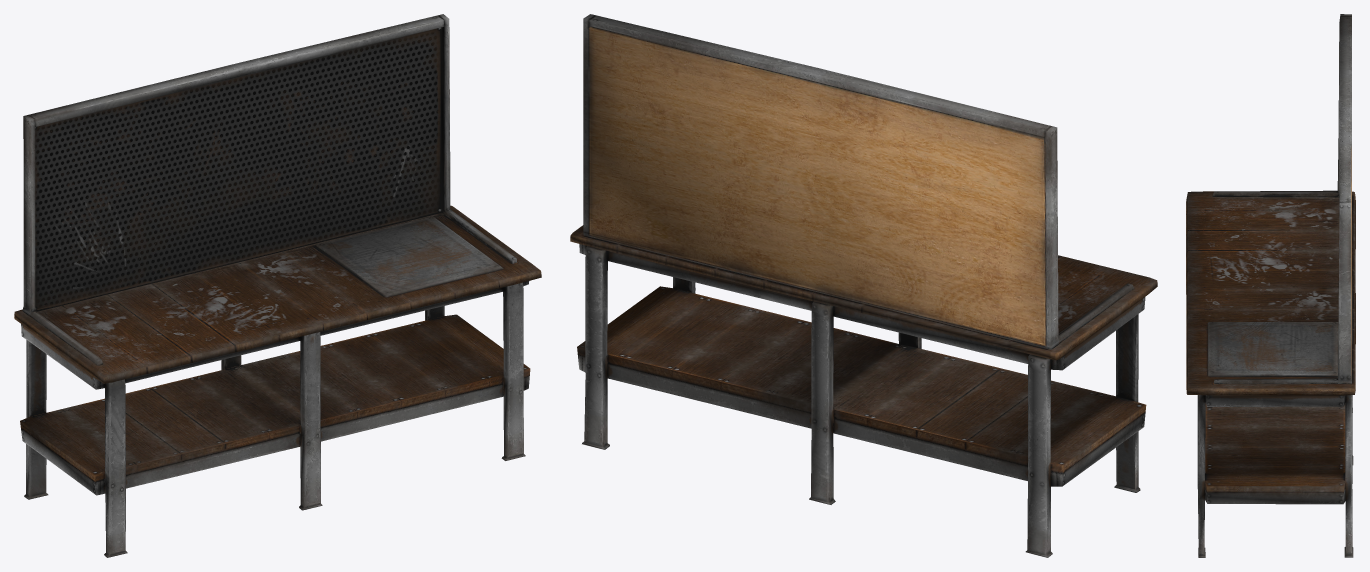
3 renders of one model, left to right at view 1: azimuth 30°, elevation 25°; view 2: azimuth 150°, elevation 25°; view 3: azimuth 270°, elevation 25°, orthographic. The views are drawn at different scales.
Parts seen in each view (by area): view 1: RetopoGroup1; view 2: RetopoGroup1; view 3: RetopoGroup1.
Part boxes in pixels (x1,y1,x2,y2): RetopoGroup1: (14,14,541,557); RetopoGroup1: (570,14,1157,557); RetopoGroup1: (1186,14,1355,557).
Bounding box in the file's own units: 2.1 × 1.75 × 0.7605.
Materials: 1 (1 with a texture image).
